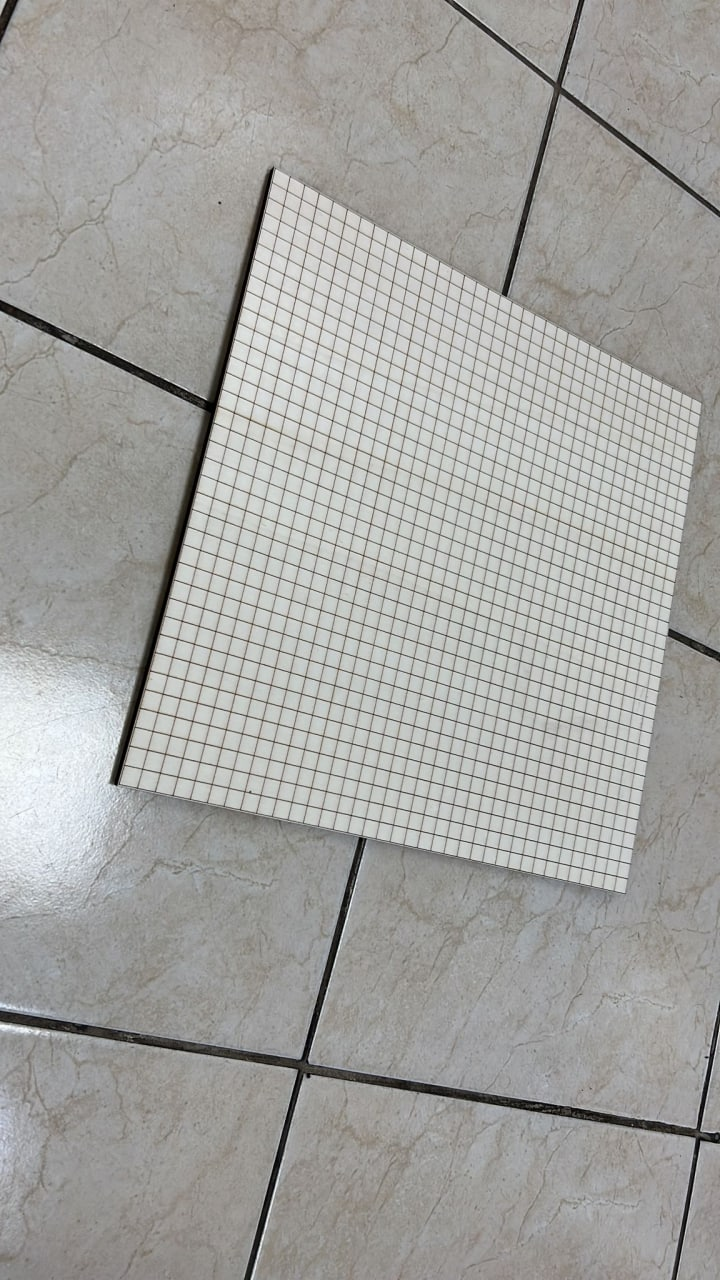grid: (86, 156, 702, 901)
